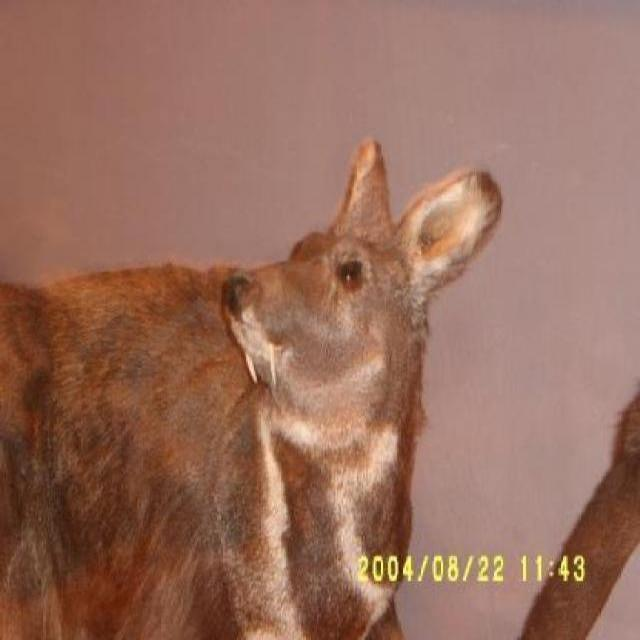deer: (0, 141, 508, 639)
